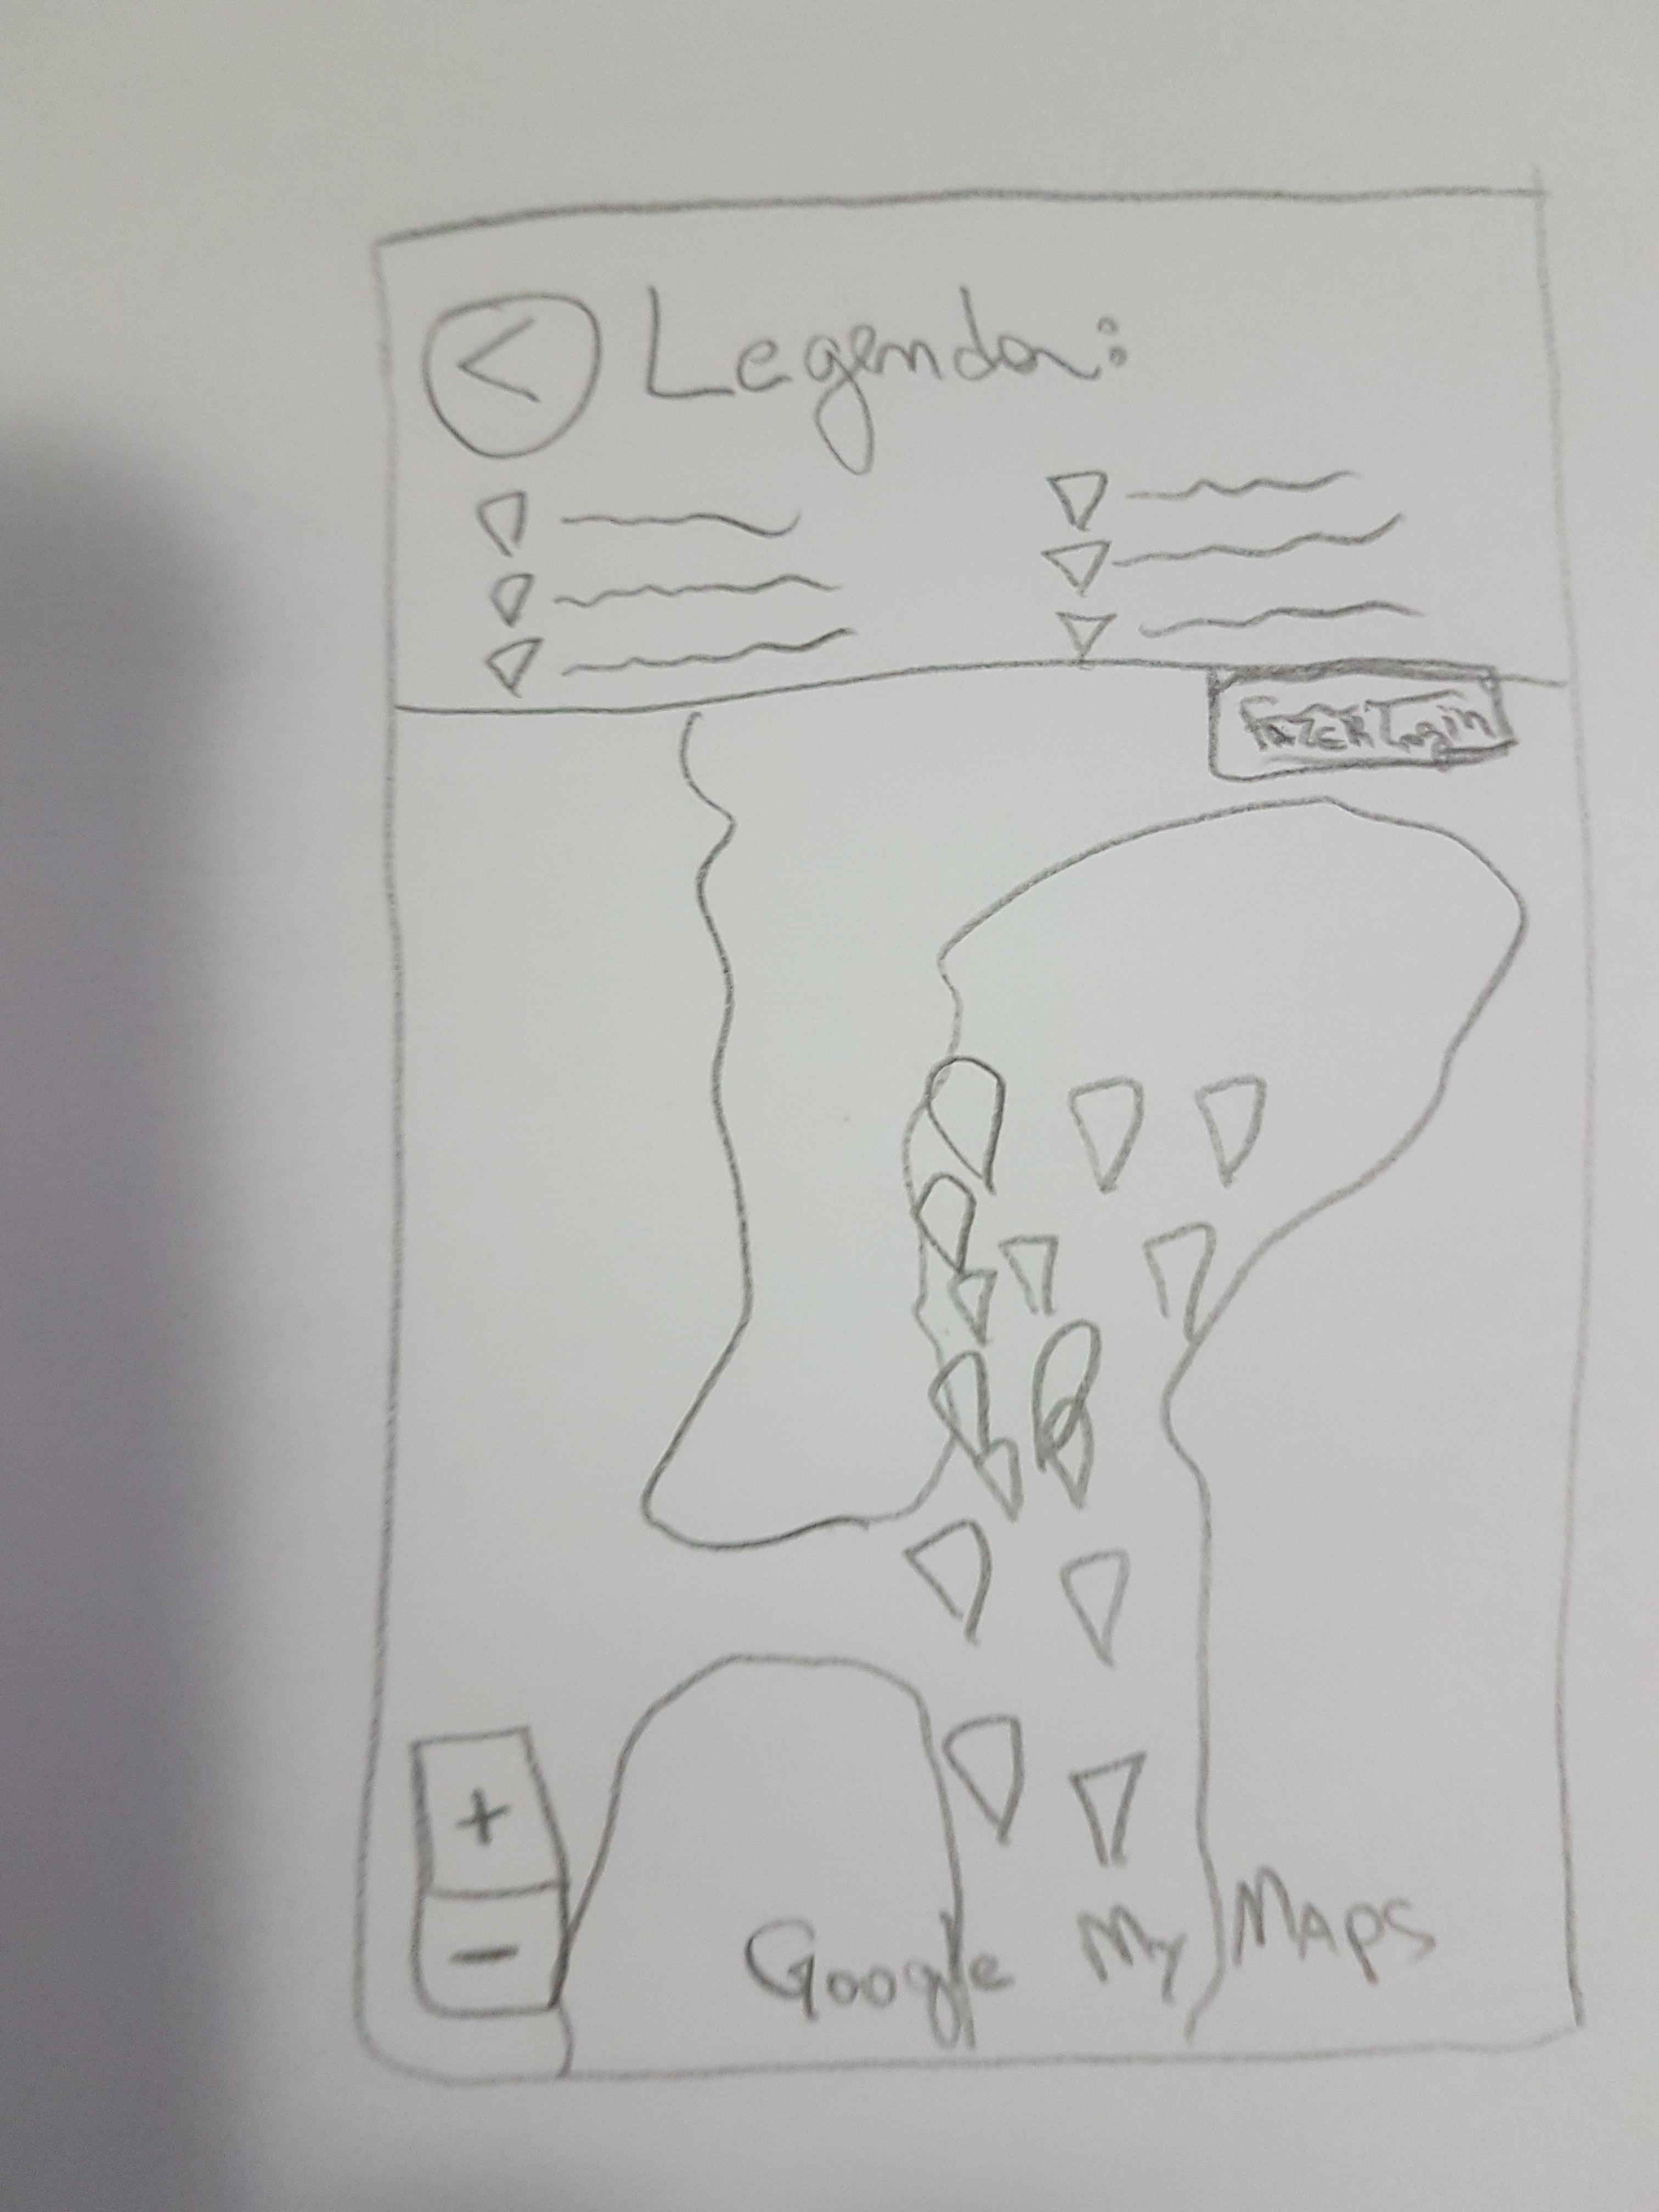Button: (425, 289, 605, 462)
Label: (643, 280, 1127, 481), (474, 477, 864, 690), (1033, 462, 1429, 664)
Map: (399, 679, 1588, 2071)
Screen: (383, 183, 1593, 2087)
